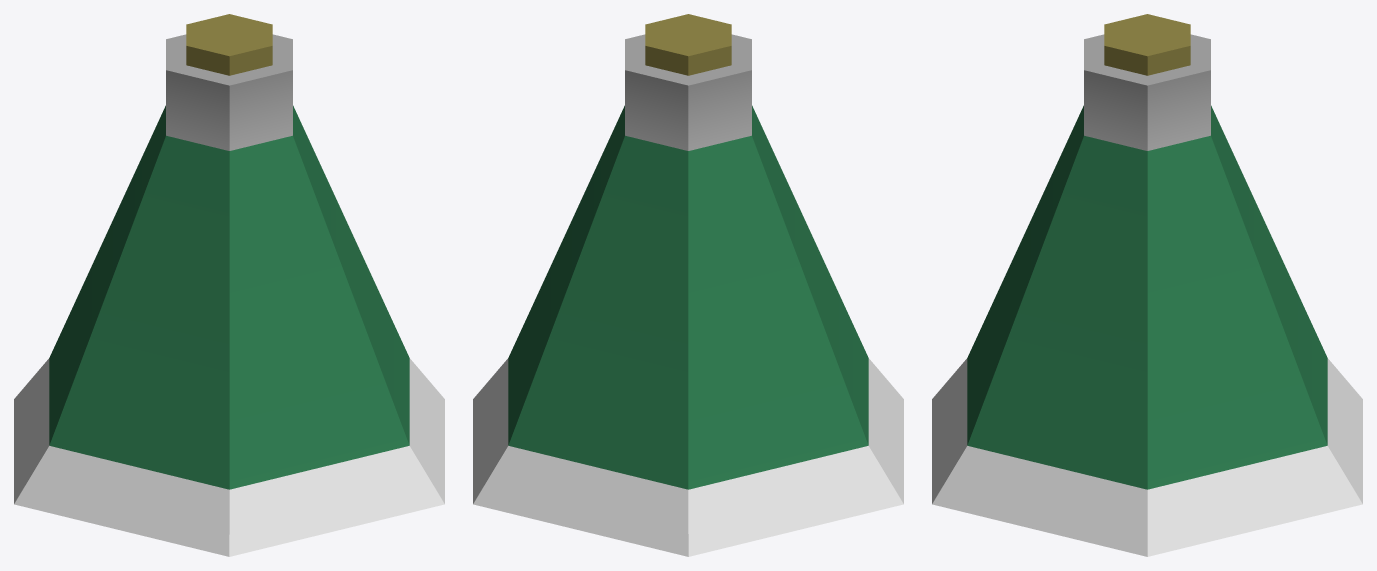
The model's file is Vidro.fbx.
3 renders of one model, left to right at view 1: azimuth 30°, elevation 25°; view 2: azimuth 150°, elevation 25°; view 3: azimuth 270°, elevation 25°, orthographic.
Parts seen in each view (by area): view 1: poção; view 2: poção; view 3: poção.
Boxes of the visible parts, x1,y1,x2,y2 form: poção: [14, 14, 444, 556]; poção: [473, 14, 903, 556]; poção: [932, 14, 1362, 556].
Size of the model in its own units: 7.93 by 7.33 by 6.87.
